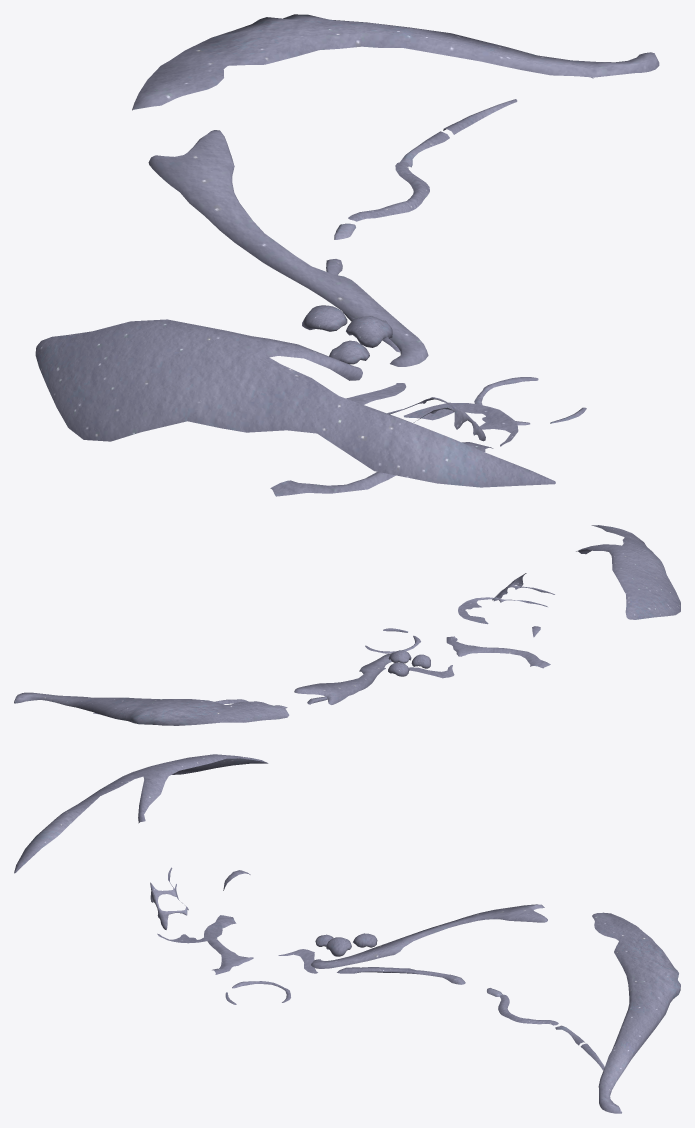
File: pref_sm_beach_winter_snow06_lv2.fbx
3 views of the same model, one above another, from view 1: azimuth 30°, elevation 25°; view 2: azimuth 150°, elevation 25°; view 3: azimuth 270°, elevation 25° (orthographic). The views are drawn at different scales.
Parts seen in each view (by area): view 1: pref_sm_beach_winter_snow06_lv2; view 2: pref_sm_beach_winter_snow06_lv2; view 3: pref_sm_beach_winter_snow06_lv2.
Boxes of the visible parts, x1,y1,x2,y2 form: pref_sm_beach_winter_snow06_lv2: [35, 14, 659, 496]; pref_sm_beach_winter_snow06_lv2: [14, 525, 680, 725]; pref_sm_beach_winter_snow06_lv2: [14, 754, 680, 1113].
Bounding box in the file's own units: 75.69 × 16.49 × 80.36.
